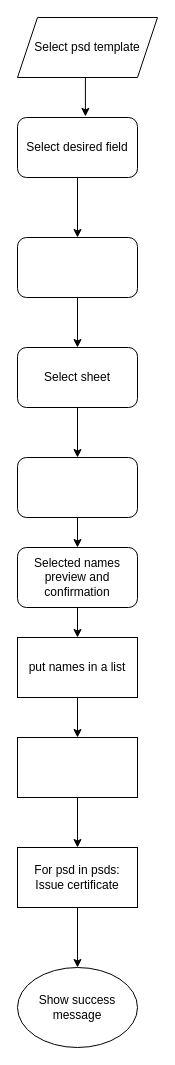
Some shapes in this 175 by 1065 pixel diagram are drawn without their labels. Each missing label, with the centre of its shape:
"For name in names: copy and rename name.psd" goes at point 77,767.
"preview and select range" goes at point 77,487.
"Select exel file" goes at point 77,267.
